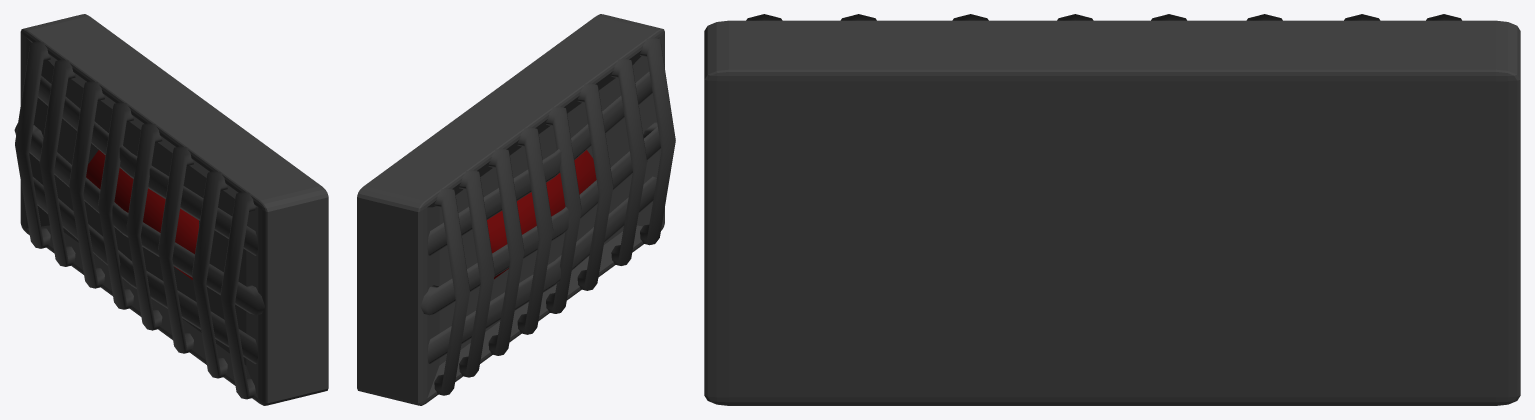
The model's file is wall_light_dark.fbx.
The picture shows the model from 3 angles, left to right: view 1: azimuth 30°, elevation 25°; view 2: azimuth 150°, elevation 25°; view 3: azimuth 270°, elevation 25°; orthographic projection. The views are drawn at different scales.
Visible parts, largest first — view 1: Cube, Torus.001, Cylinder; view 2: Cube, Torus.001, Cylinder; view 3: Cube, Torus.001.
Part boxes in pixels (<box>): Cube: <box>20,14,328,405</box>; Torus.001: <box>14,41,265,399</box>; Cylinder: <box>86,150,198,279</box>; Cube: <box>357,14,664,405</box>; Torus.001: <box>420,37,675,395</box>; Cylinder: <box>487,150,596,279</box>; Cube: <box>704,20,1520,405</box>; Torus.001: <box>746,14,1461,20</box>.
Bounding box in the file's own units: 40.82 × 90.94 × 200.
